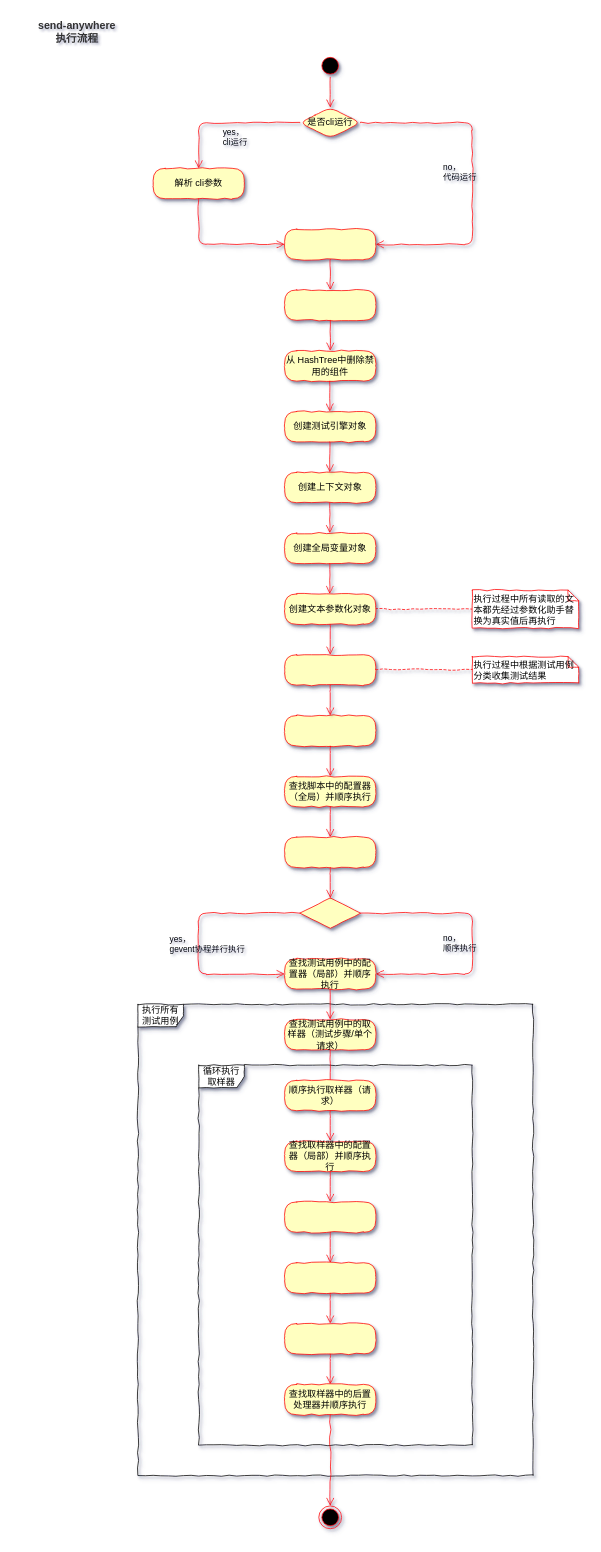
Some shapes in this 601 by 1552 pixel diagram are drawn without their labels. The shapes that lost their labels are listed below. From the top down, each one's centre as x and y in pixels, then its label:
point 330,245: 加载 Json脚本
point 330,306: 解析 Json脚本，反序列化为 HashTree对象
point 330,670: 创建测试结果收集器对象
point 330,731: 开始执行测试脚本，记录开始时间，运行环境等信息
point 330,853: 查找脚本中的测试用例
point 330,914: 是否并行执行测试用例
point 330,1218: 查找取样器中的前置处理器并顺序执行
point 330,1278: 执行取样器中的请求并保存执行结果
point 330,1339: 查找取样器中的断言器并顺序执行
